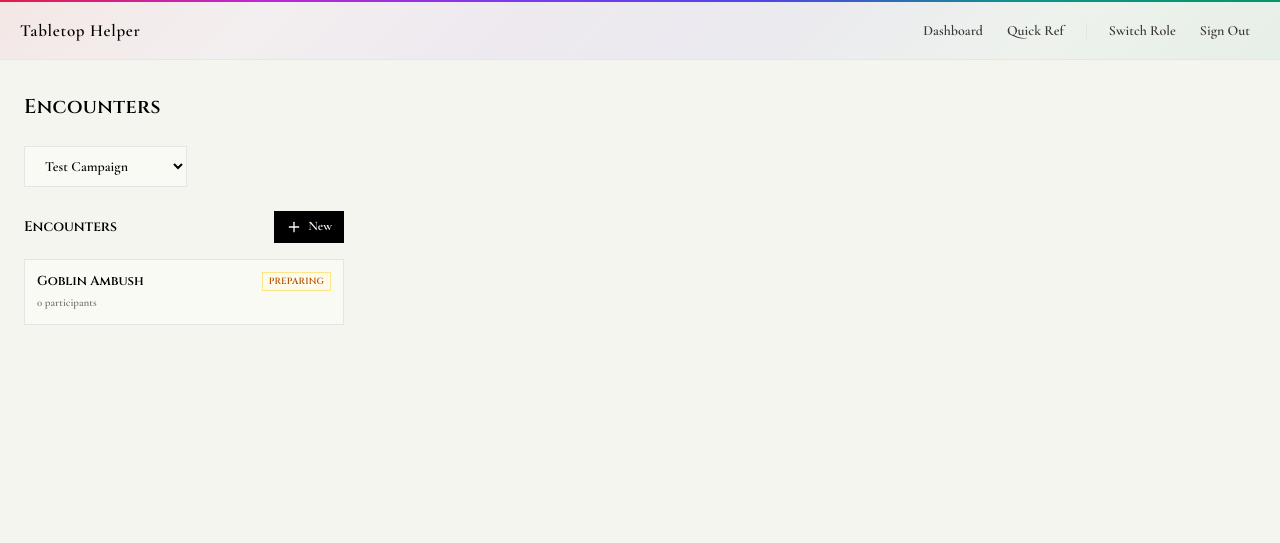
EncounterBuilderPage › shows create encounter form on New button click
Expected: the text "Goblin Ambush" is shown, top-left (37, 272), bottom-right (144, 291)
What coordinates should you click on to do the following:
click the button "New"
I would click on:
 (309, 227)
Its box is top-left (274, 211), bottom-right (344, 242).
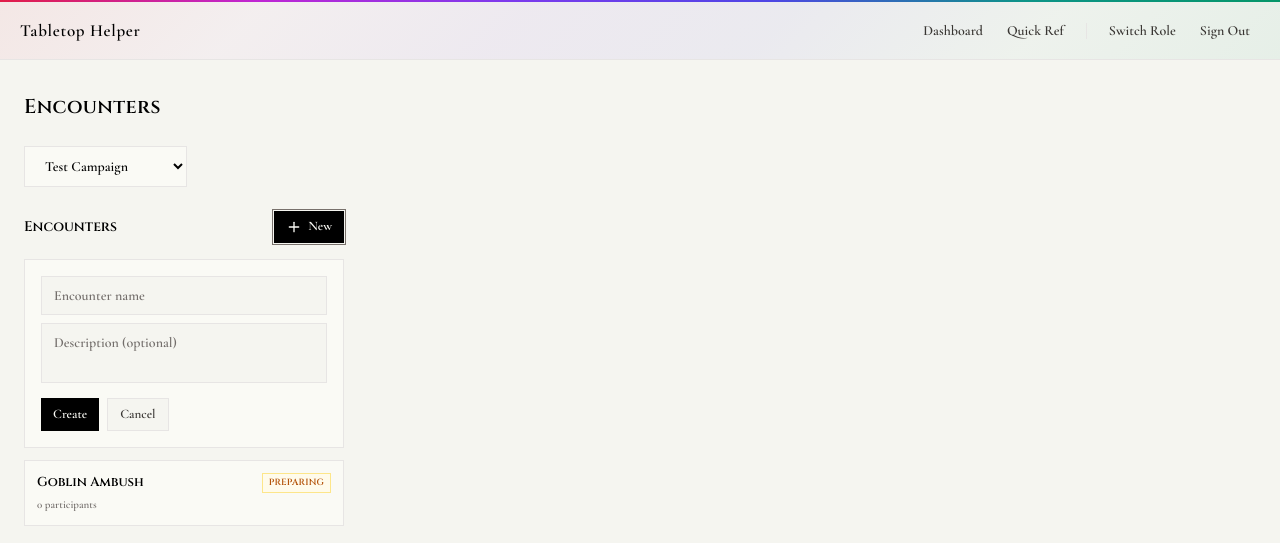
Expected: the field with placeholder "Encounter name" is shown, top-left (41, 276), bottom-right (327, 314)
